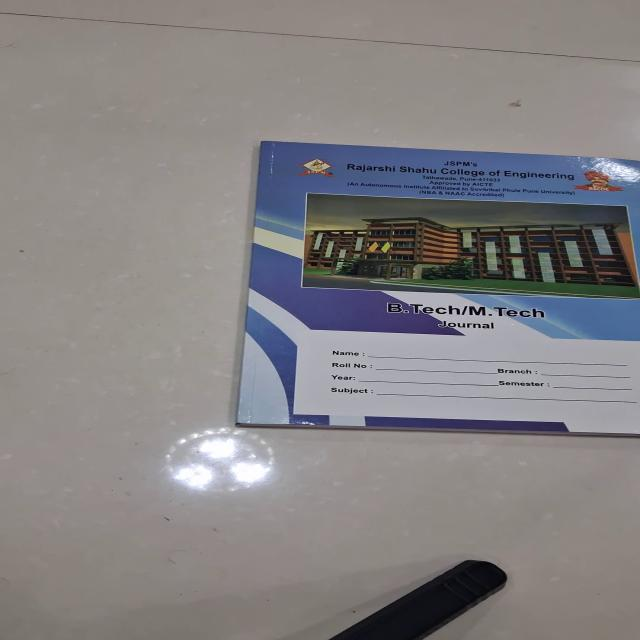paper: (234, 140, 639, 435)
